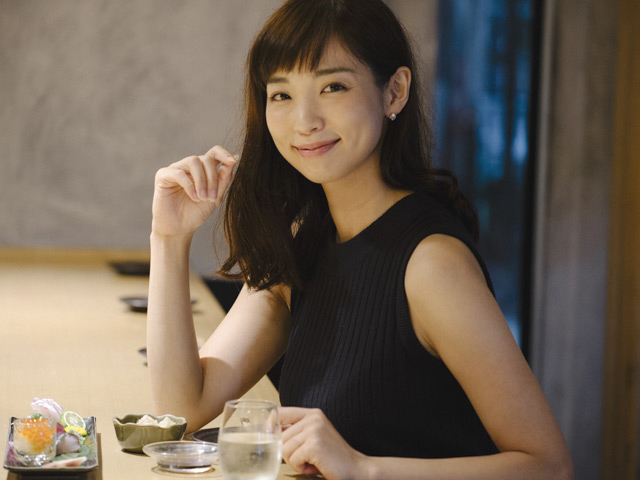face: (266, 33, 412, 185)
hand: (150, 144, 243, 237), (264, 406, 363, 480)
